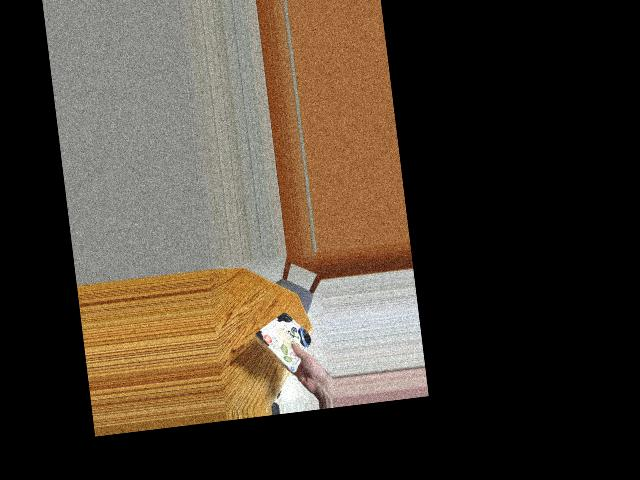cheese: (257, 310, 308, 368)
